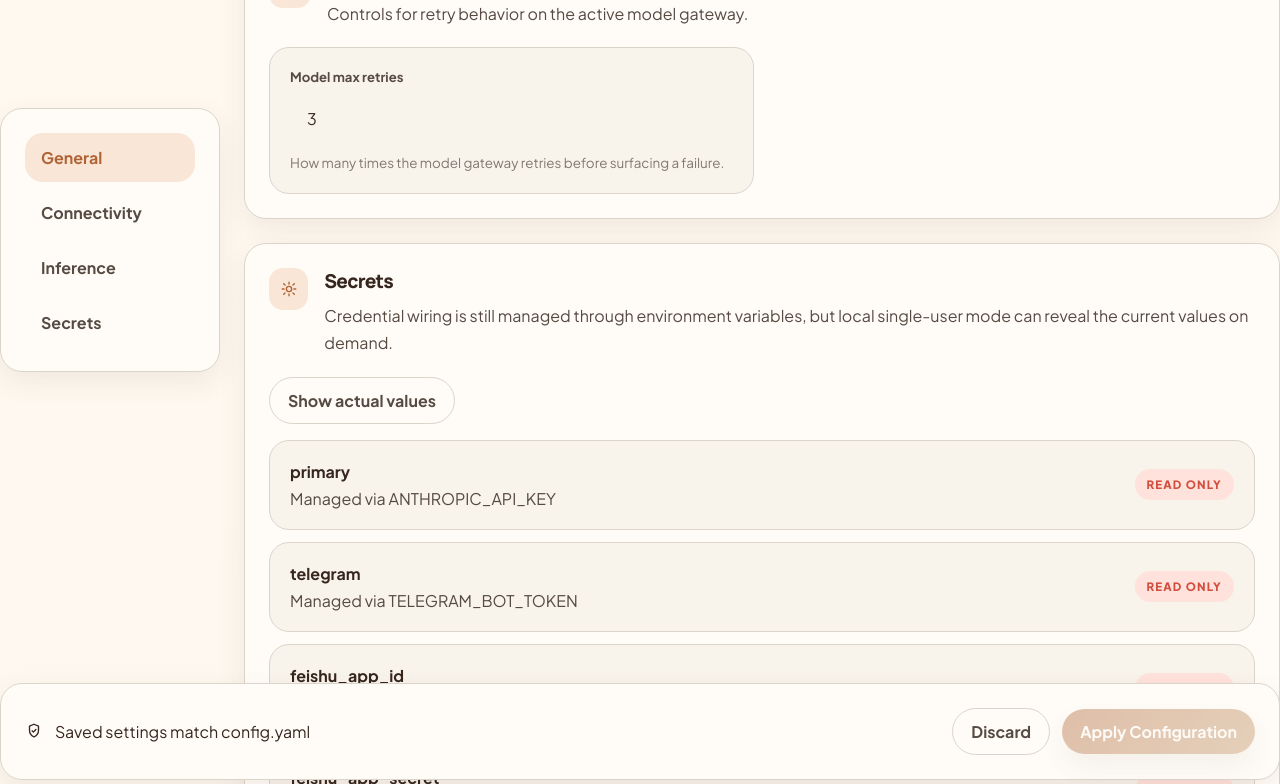
Test: SettingsPage › reveals actual secret values on demand
This screenshot has width=1280, height=784.
(page scrolled)
Click the button "Show actual values" at (362, 400), box 269,377 -> 455,424
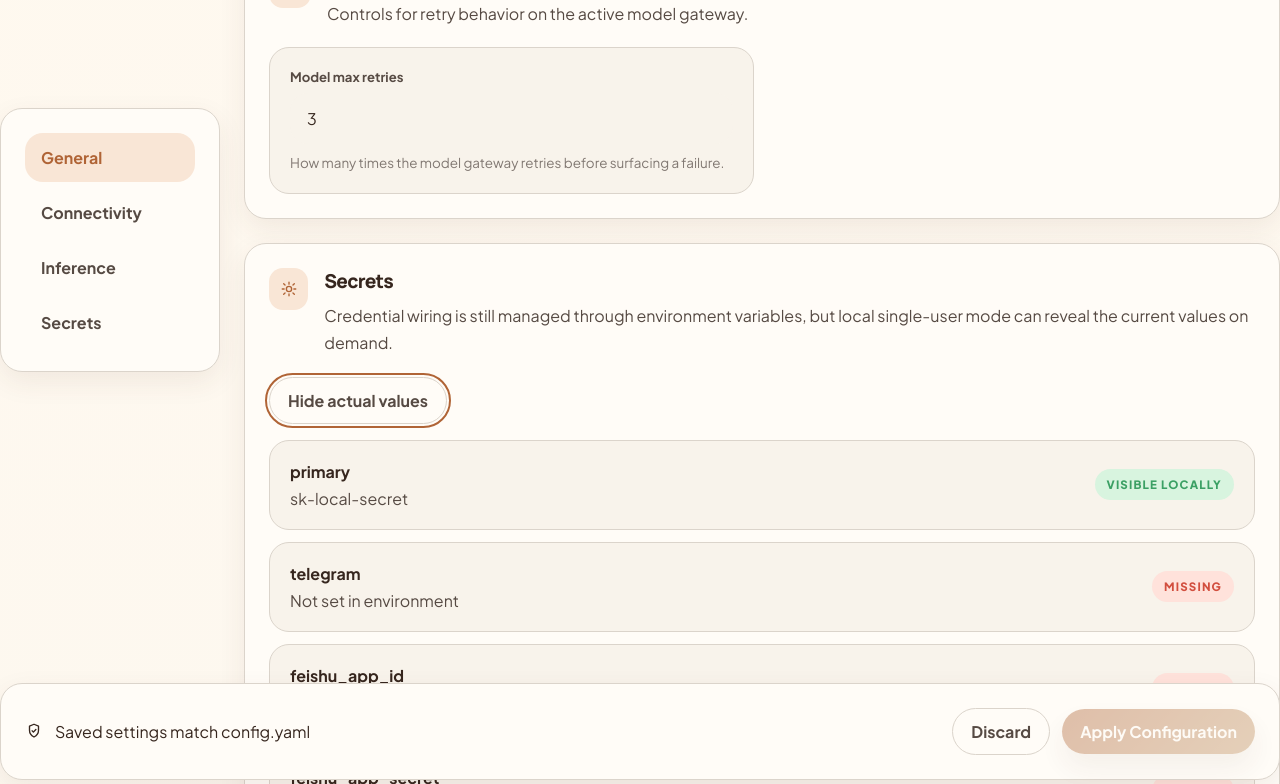
Expected: the text "sk-local-secret" is shown, 290,488 -> 408,509
